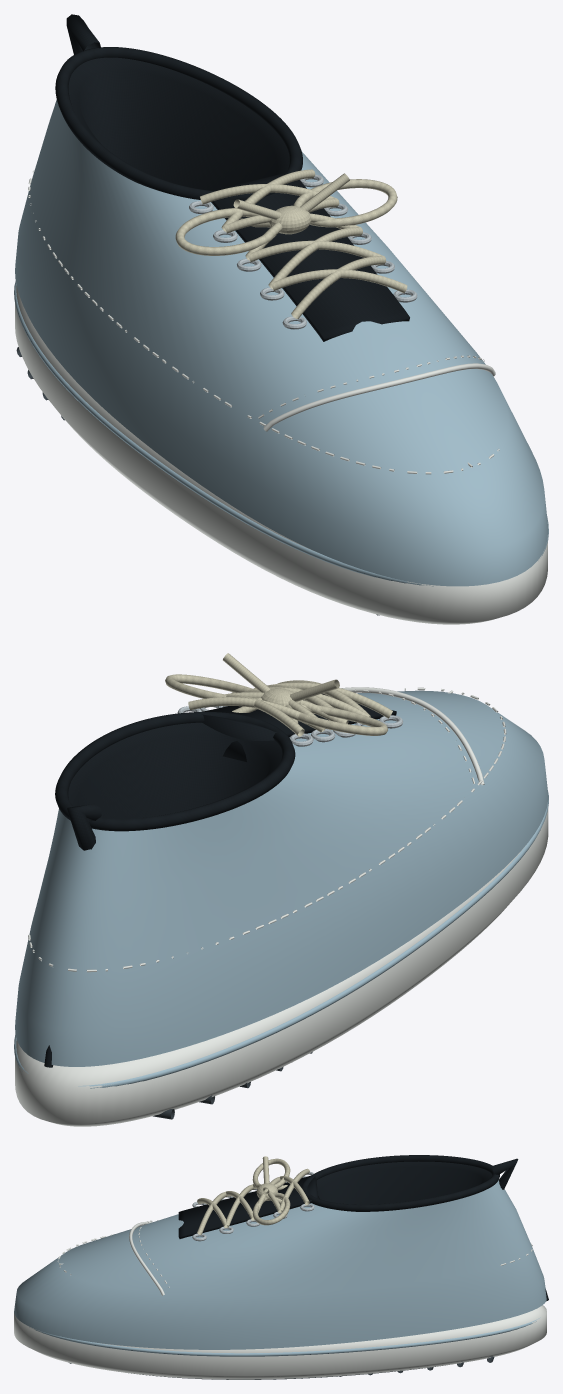
The model's file is Sneaker_Left_cm.glb.
3 views of the same model, one above another, from view 1: azimuth 30°, elevation 25°; view 2: azimuth 150°, elevation 25°; view 3: azimuth 270°, elevation 25° (orthographic). The views are drawn at different scales.
Parts seen in each view (by area): view 1: Sneaker_Left_HollowUpper, Sneaker_Left_MouldedMidsole, Sneaker_Left_PaddedInnerCollar, Sneaker_Left_Tongue, Sneaker_Left_CollarBinding, Sneaker_Left_MidsoleWelt, Sneaker_Left_BowLoop, Sneaker_Left_BowLoop.001, Sneaker_Left_ToePanelPiping, Sneaker_Left_CrossLace.001, Sneaker_Left_CrossLace.003, Sneaker_Left_CrossLace (+6 smaller); view 2: Sneaker_Left_HollowUpper, Sneaker_Left_MouldedMidsole, Sneaker_Left_PaddedInnerCollar, Sneaker_Left_CollarBinding, Sneaker_Left_MidsoleWelt, Sneaker_Left_Tongue, Sneaker_Left_BowLoop, Sneaker_Left_BowLoop.001, Sneaker_Left_ToePanelPiping, Sneaker_Left_HeelPullLoop, Sneaker_Left_CrossLace.006, Sneaker_Left_QuarterPanelStitch (+2 smaller); view 3: Sneaker_Left_HollowUpper, Sneaker_Left_MouldedMidsole, Sneaker_Left_PaddedInnerCollar, Sneaker_Left_CollarBinding, Sneaker_Left_Tongue, Sneaker_Left_MidsoleWelt, Sneaker_Left_BowLoop.001, Sneaker_Left_HeelPullLoop, Sneaker_Left_BowLoop, Sneaker_Left_ToePanelPiping.
Boxes of the visible parts, x1,y1,x2,y2 form: Sneaker_Left_HollowUpper: (15, 99, 547, 586); Sneaker_Left_MouldedMidsole: (15, 285, 547, 624); Sneaker_Left_PaddedInnerCollar: (68, 57, 289, 190); Sneaker_Left_Tongue: (211, 172, 409, 341); Sneaker_Left_CollarBinding: (55, 47, 302, 199); Sneaker_Left_MidsoleWelt: (14, 281, 548, 586); Sneaker_Left_BowLoop: (175, 208, 276, 255); Sneaker_Left_BowLoop.001: (293, 179, 397, 227); Sneaker_Left_ToePanelPiping: (263, 363, 495, 431); Sneaker_Left_CrossLace.001: (271, 269, 407, 292); Sneaker_Left_CrossLace.003: (248, 240, 384, 261); Sneaker_Left_CrossLace: (291, 256, 386, 318); Sneaker_Left_HollowUpper: (15, 690, 548, 1066); Sneaker_Left_MouldedMidsole: (15, 808, 548, 1126); Sneaker_Left_PaddedInnerCollar: (68, 722, 282, 818); Sneaker_Left_CollarBinding: (55, 712, 295, 831); Sneaker_Left_MidsoleWelt: (14, 792, 548, 1088); Sneaker_Left_Tongue: (202, 693, 396, 761); Sneaker_Left_BowLoop: (285, 704, 387, 735); Sneaker_Left_BowLoop.001: (165, 674, 261, 699); Sneaker_Left_ToePanelPiping: (341, 687, 484, 785); Sneaker_Left_HeelPullLoop: (67, 803, 101, 850); Sneaker_Left_CrossLace.006: (188, 697, 323, 732); Sneaker_Left_QuarterPanelStitch: (68, 692, 506, 972); Sneaker_Left_HollowUpper: (14, 1180, 546, 1349); Sneaker_Left_MouldedMidsole: (14, 1305, 546, 1379); Sneaker_Left_PaddedInnerCollar: (316, 1161, 492, 1204); Sneaker_Left_CollarBinding: (301, 1155, 499, 1211); Sneaker_Left_Tongue: (178, 1175, 319, 1238); Sneaker_Left_MidsoleWelt: (29, 1317, 540, 1356); Sneaker_Left_BowLoop.001: (252, 1192, 290, 1225); Sneaker_Left_HeelPullLoop: (492, 1158, 518, 1189); Sneaker_Left_BowLoop: (252, 1158, 290, 1188); Sneaker_Left_ToePanelPiping: (129, 1221, 164, 1295).
Size of the model in its own units: 3.26 by 3.35 by 8.93.
Materials: 6 (2 with a texture image).
